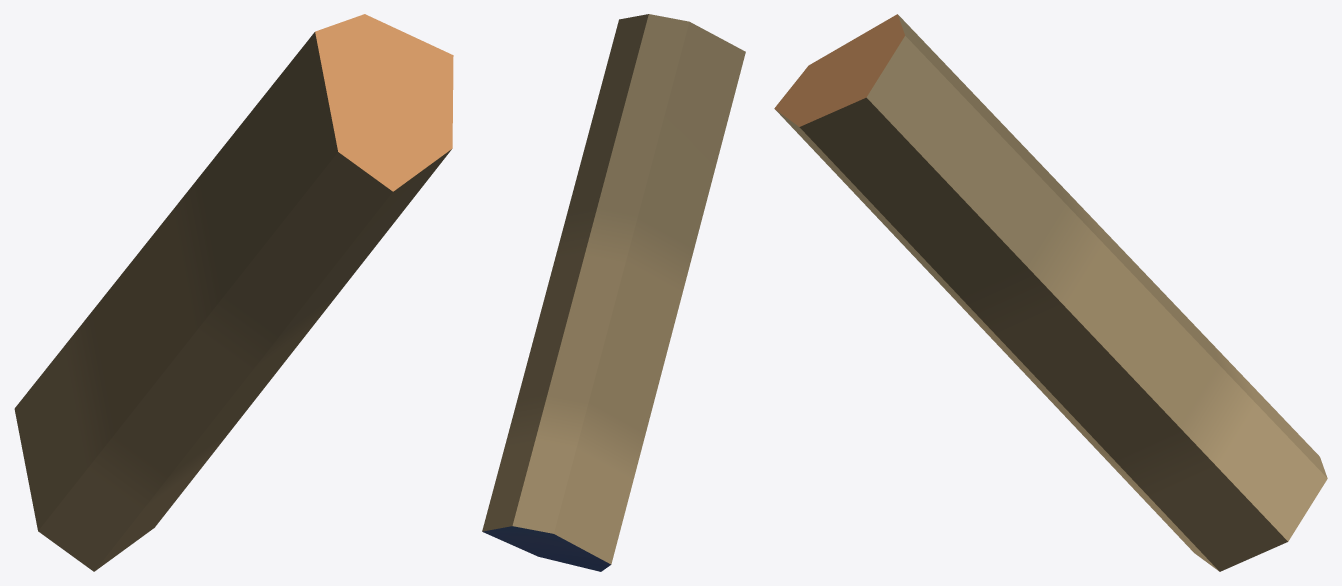
File: 067e_Vatican.glb
3 views of the same model, side by side, from view 1: azimuth 30°, elevation 25°; view 2: azimuth 150°, elevation 25°; view 3: azimuth 270°, elevation 25° (orthographic). The views are drawn at different scales.
Parts seen in each view (by area): view 1: part_0; view 2: part_0; view 3: part_0.
Part boxes in pixels (x1,y1,x2,y2): part_0: [14, 14, 453, 571]; part_0: [482, 14, 745, 571]; part_0: [774, 14, 1327, 571].
Size of the model in its own units: 0.0596 by 0.1853 by 0.1662.
Materials: 1 (1 with a texture image).
